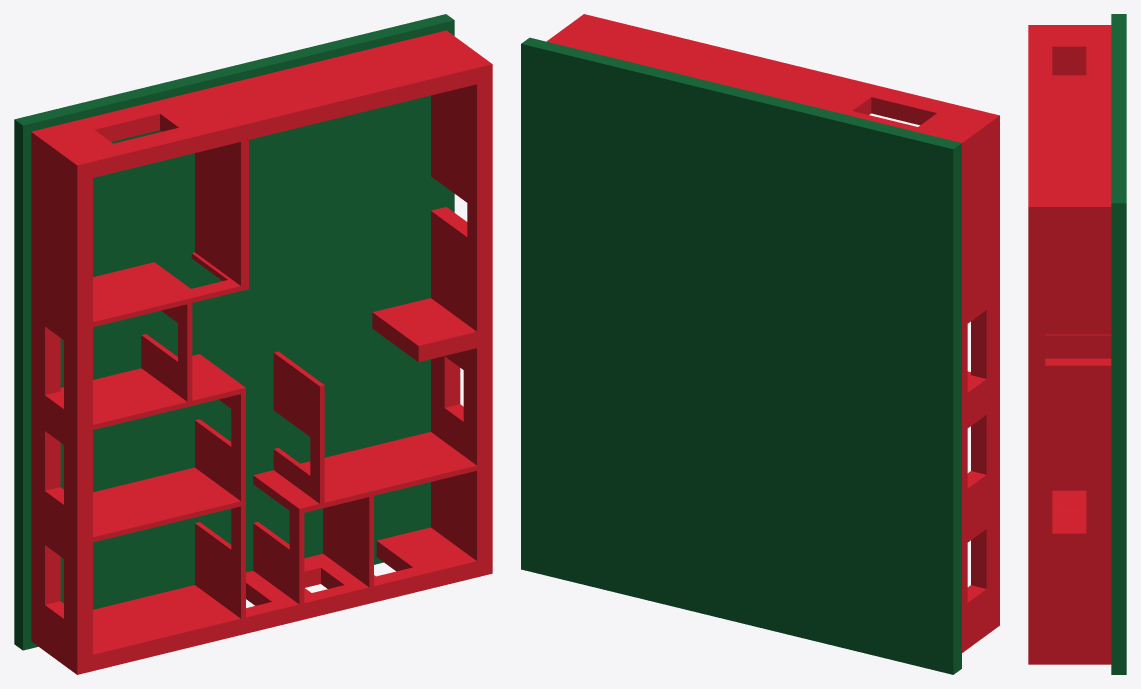
The model's file is tinker.obj.
3 renders of one model, left to right at view 1: azimuth 30°, elevation 25°; view 2: azimuth 150°, elevation 25°; view 3: azimuth 270°, elevation 25°, orthographic. The views are drawn at different scales.
Parts seen in each view (by area): view 1: obj_2, obj_25, obj_12, obj_16, obj_0, obj_5, obj_4, obj_7, obj_27, obj_28, obj_22, obj_17 (+18 smaller); view 2: obj_2, obj_12, obj_0, obj_16, obj_28, obj_27, obj_15, obj_10, obj_9; view 3: obj_25, obj_2, obj_17, obj_8, obj_12, obj_16, obj_10, obj_4, obj_29, obj_6, obj_18, obj_11 (+4 smaller).
Part boxes in pixels (<box>): obj_2: <box>14,14,454,650</box>; obj_25: <box>431,80,492,331</box>; obj_12: <box>203,48,418,139</box>; obj_16: <box>47,92,240,177</box>; obj_0: <box>31,148,92,325</box>; obj_5: <box>93,585,240,670</box>; obj_4: <box>253,432,492,513</box>; obj_7: <box>195,90,248,290</box>; obj_27: <box>31,513,92,658</box>; obj_28: <box>31,396,92,542</box>; obj_22: <box>31,467,245,544</box>; obj_17: <box>431,344,492,465</box>; obj_2: <box>521,37,961,674</box>; obj_12: <box>621,32,827,100</box>; obj_0: <box>962,132,999,303</box>; obj_16: <box>799,75,983,139</box>; obj_28: <box>962,379,999,521</box>; obj_27: <box>962,496,999,636</box>; obj_15: <box>962,281,999,406</box>; obj_10: <box>546,14,641,55</box>; obj_9: <box>947,111,999,159</box>; obj_25: <box>1028,221,1111,443</box>; obj_2: <box>1111,14,1126,674</box>; obj_17: <box>1028,458,1111,564</box>; obj_8: <box>1028,569,1111,649</box>; obj_12: <box>1028,100,1111,174</box>; obj_16: <box>1028,31,1111,96</box>; obj_10: <box>1028,181,1111,221</box>; obj_4: <box>1028,490,1111,568</box>; obj_29: <box>1045,337,1111,358</box>; obj_6: <box>1028,650,1111,664</box>; obj_18: <box>1028,444,1111,458</box>; obj_11: <box>1028,174,1111,181</box>.
Size of the model in its own units: 105 by 122 by 23.
